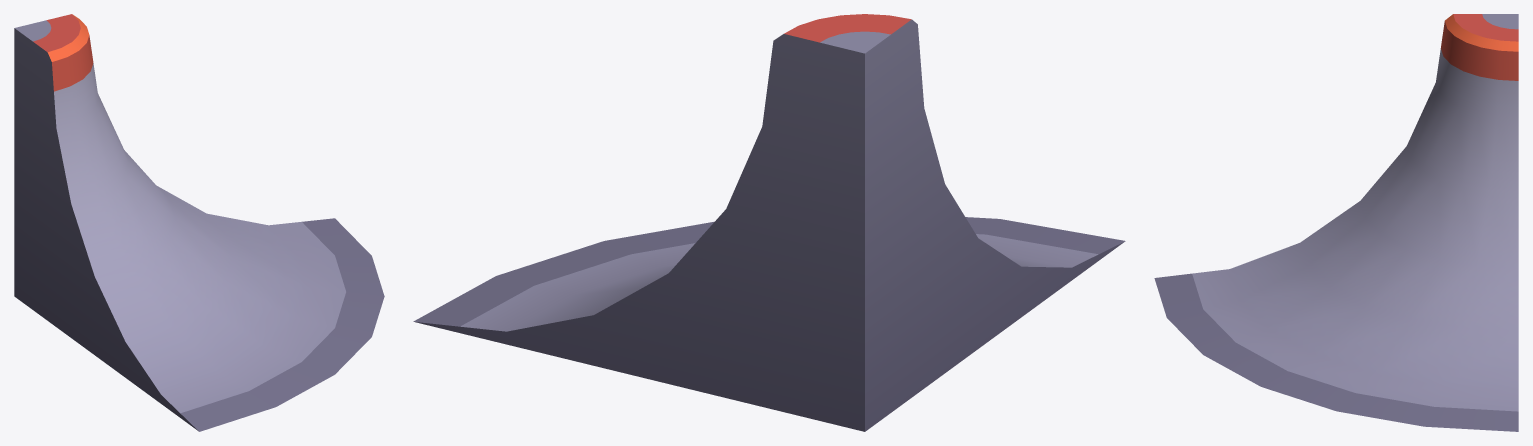
File: mini-skate--bowl-corner-outer.glb
3 renders of one model, left to right at view 1: azimuth 30°, elevation 25°; view 2: azimuth 150°, elevation 25°; view 3: azimuth 270°, elevation 25°, orthographic. The views are drawn at different scales.
Visible parts, largest first — view 1: bowl-corner-outer; view 2: bowl-corner-outer; view 3: bowl-corner-outer.
Part boxes in pixels (x1=…): bowl-corner-outer: x1=14, y1=14, x2=384, y2=431; bowl-corner-outer: x1=413, y1=14, x2=1125, y2=431; bowl-corner-outer: x1=1154, y1=14, x2=1518, y2=431.
Bounding box in the file's own units: 1 × 0.8 × 1.
Materials: 1 (1 with a texture image).
